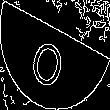O_N: (34, 23, 76, 87)
